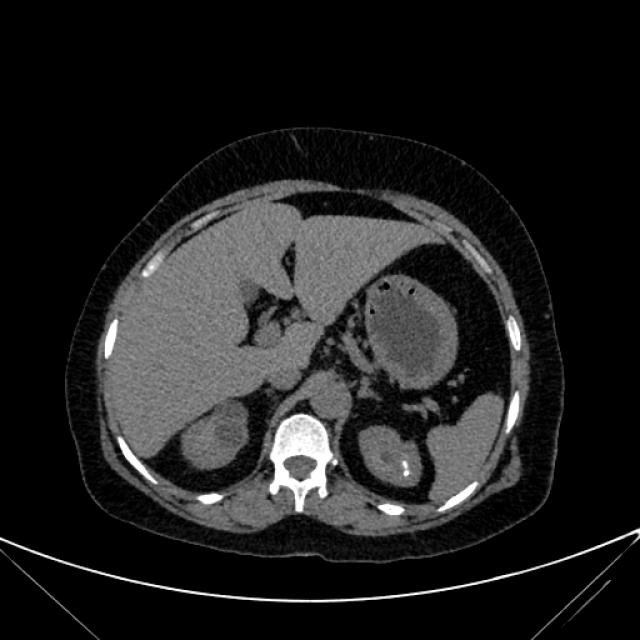kidney: (180, 394, 250, 471), (356, 421, 424, 494)
stone: (401, 457, 410, 471), (403, 465, 410, 480)
